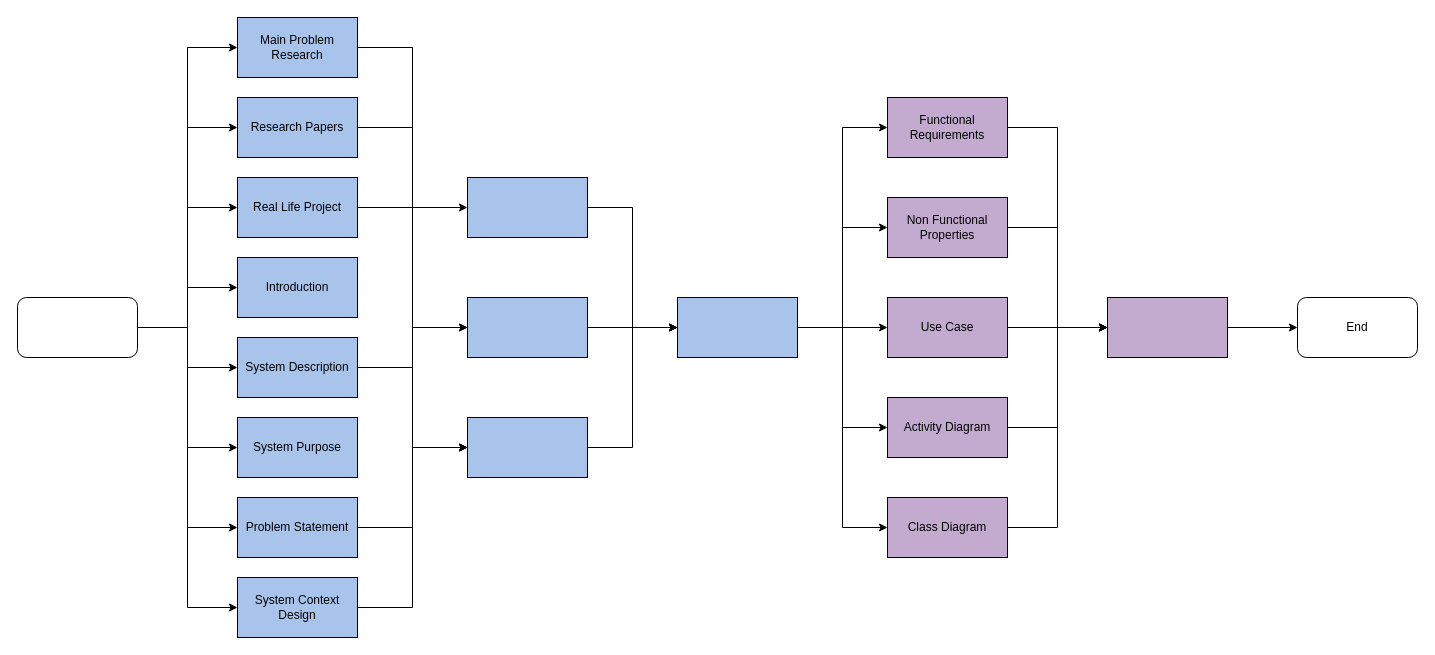
Image size: 1435x655. Some labels were removed from this diagram. The centre of each missing label's shape, as x and y in pixels:
Challenges: point 527,327
Literature Review: point 527,207
Projection: point 527,447
Start: point 77,327
Verification Phase One: point 737,327
Verification Phase Two: point 1167,327
